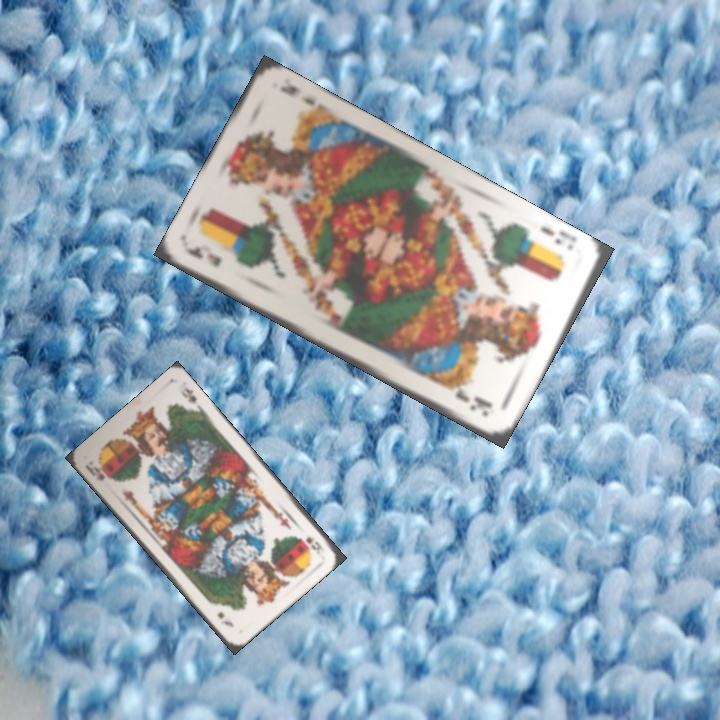EK: (536, 222, 577, 253), (184, 242, 224, 270)
SK: (81, 460, 113, 483), (301, 533, 328, 555)
